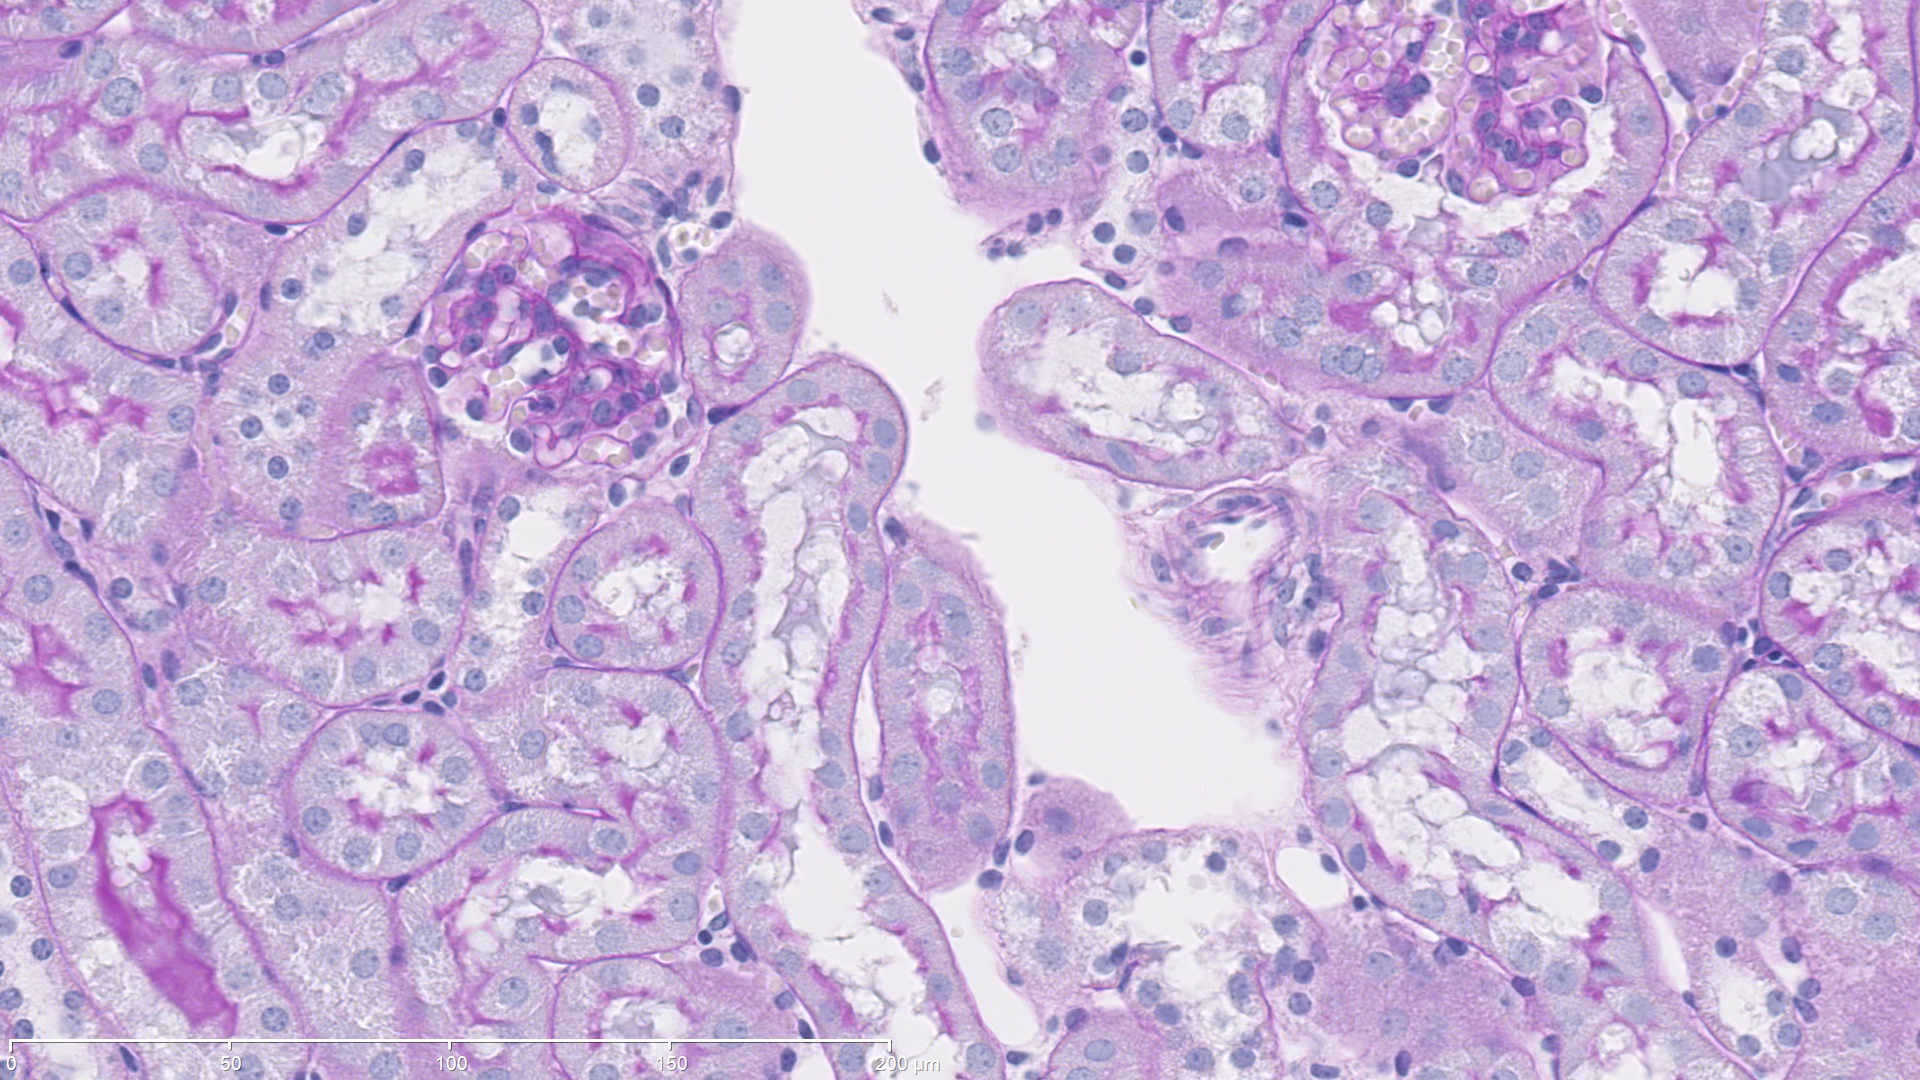Glomeruli: (411, 191, 720, 504), (1288, 3, 1656, 247)
